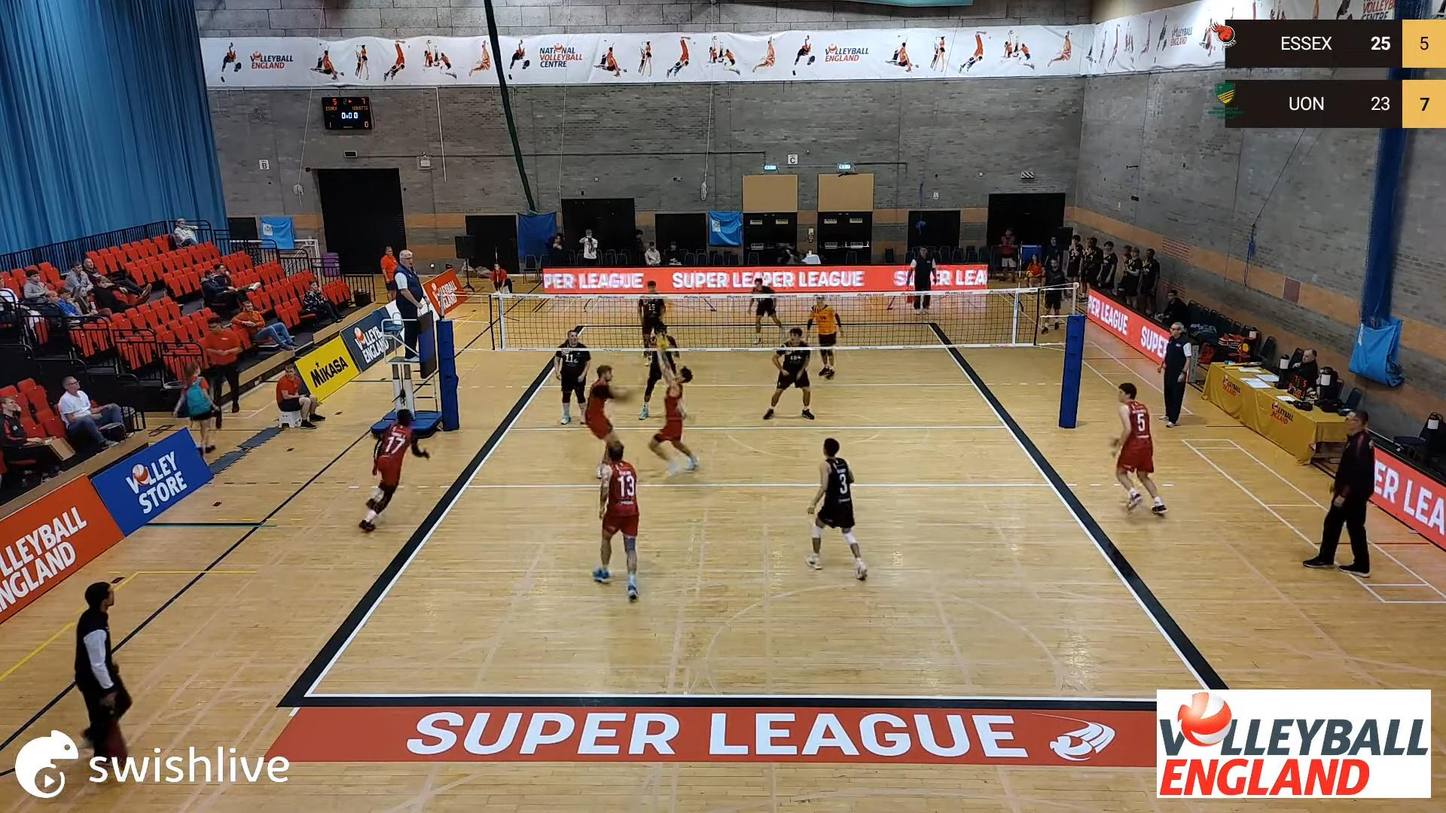Player: (806, 438, 867, 580), (359, 410, 429, 531), (1112, 383, 1166, 515), (593, 442, 638, 600), (763, 327, 814, 419), (584, 365, 622, 478), (639, 326, 677, 419), (554, 330, 590, 425), (807, 295, 840, 379), (751, 276, 782, 344), (638, 281, 666, 356)
Set: (645, 350, 702, 481)
ball: (649, 331, 669, 349)
